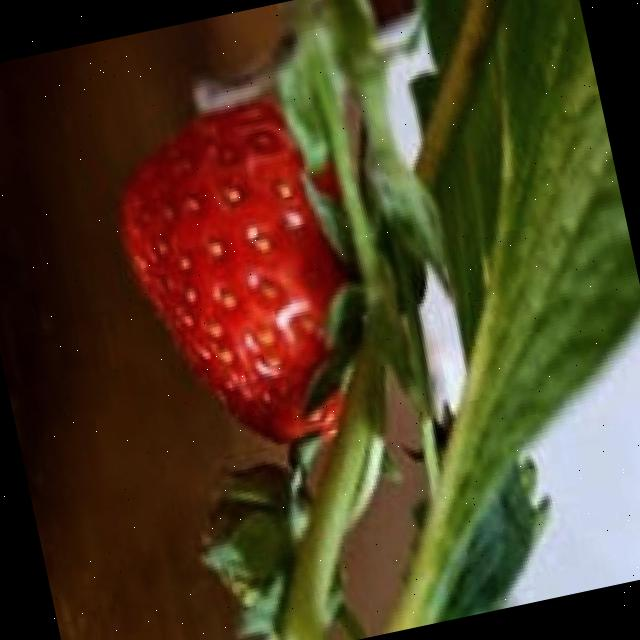strawberry: (97, 80, 387, 478)
